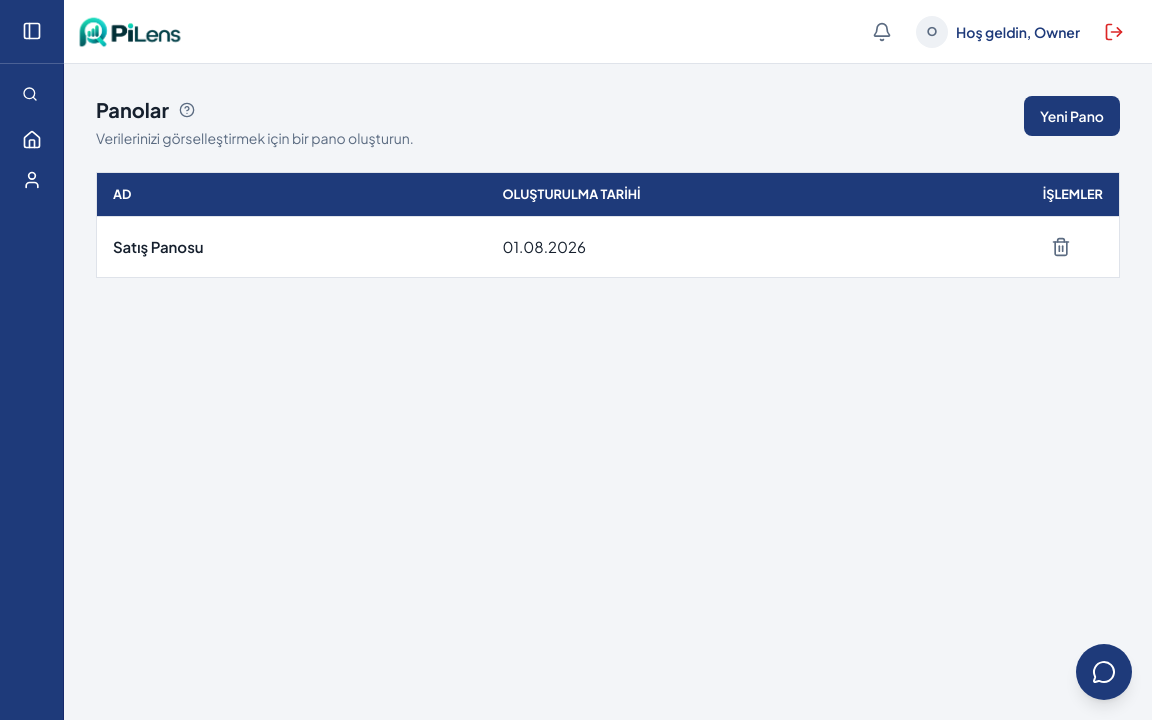
Test: DashboardsListPage › sil butonu onay sonrasi panoyu siler ve listeyi yeniler
expect the text "Satış Panosu" is shown: met, box [113,237,204,256]
Click the button named "Sil" at (1061, 247), box [1043,229,1079,265]
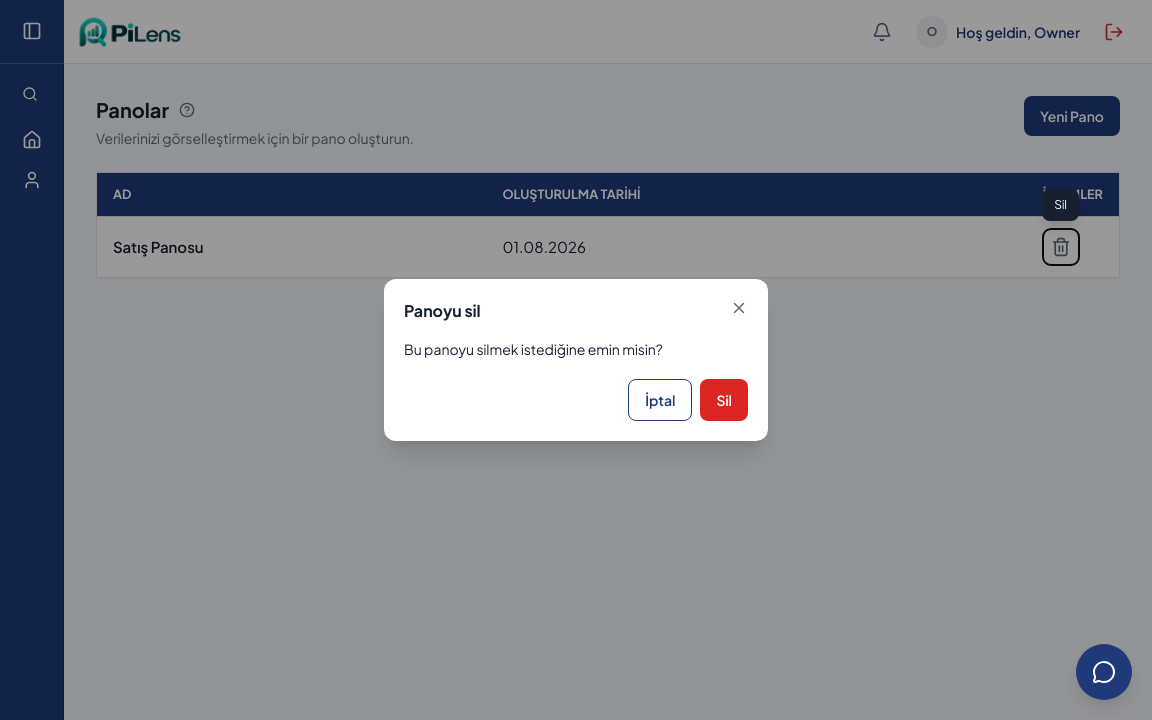
Click the button "Sil" at (724, 400), box [700,379,748,421]
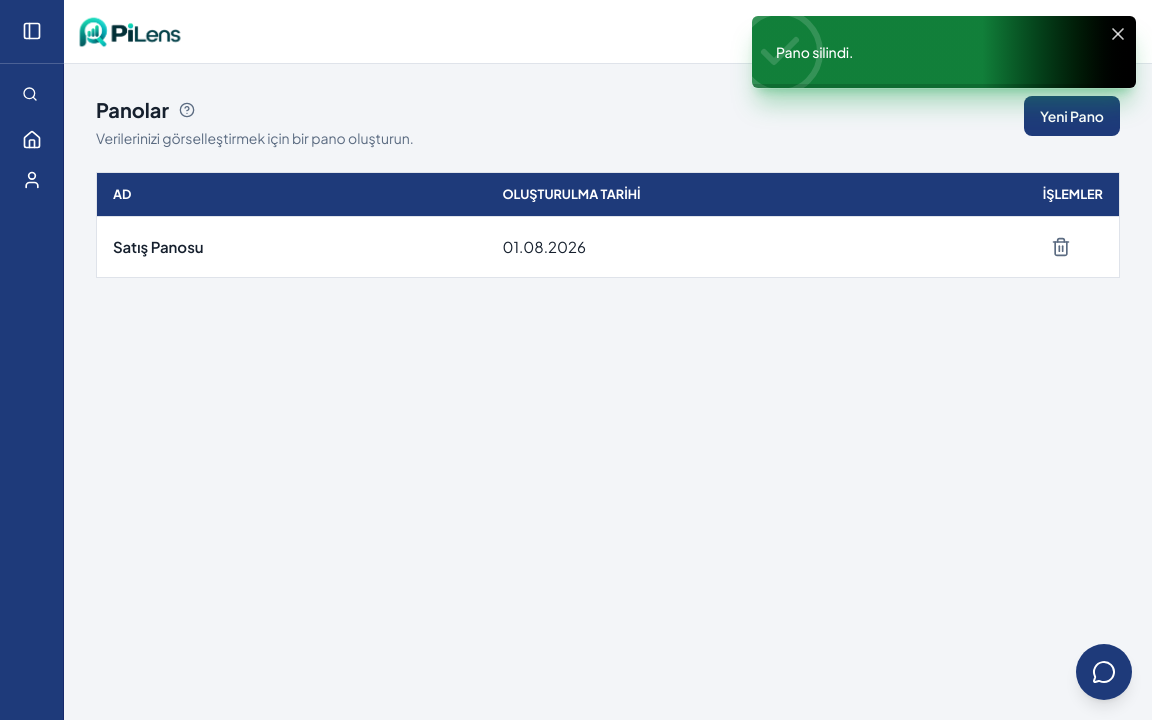
expect the text "Pano silindi." is shown: met, box [776,43,853,61]
